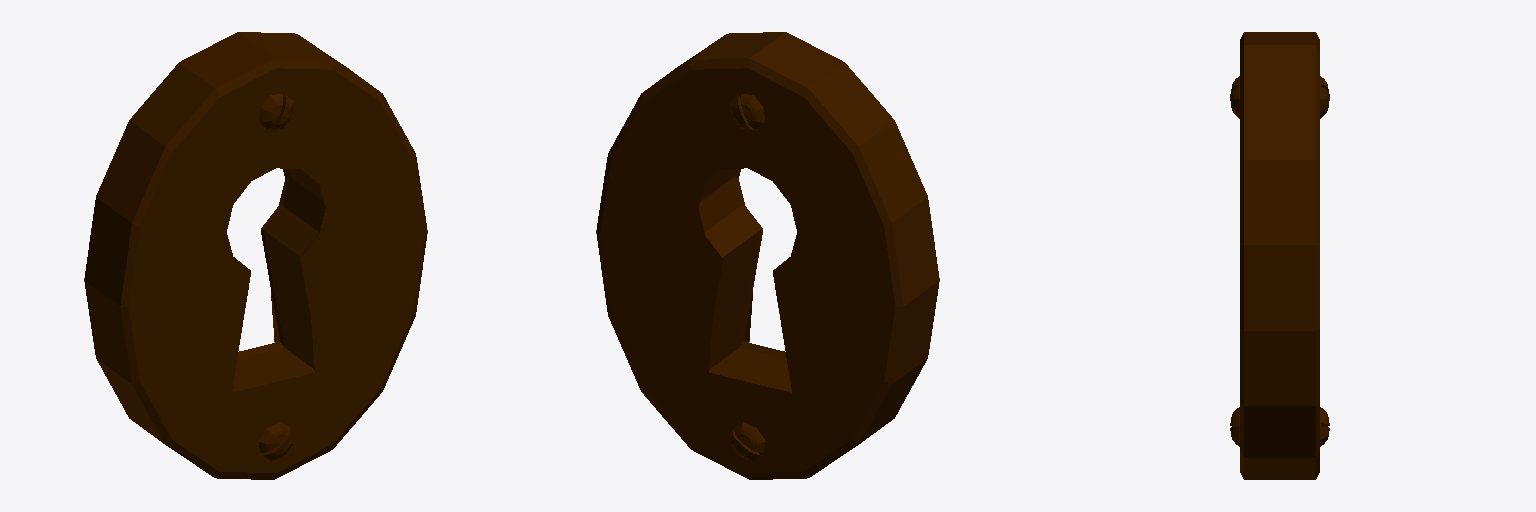
The model's file is keyhole.obj.
The picture shows the model from 3 angles: view 1: azimuth 30°, elevation 25°; view 2: azimuth 150°, elevation 25°; view 3: azimuth 270°, elevation 25°; orthographic projection.
Bounding box in the file's own units: 5.38 × 7.05 × 1.51.